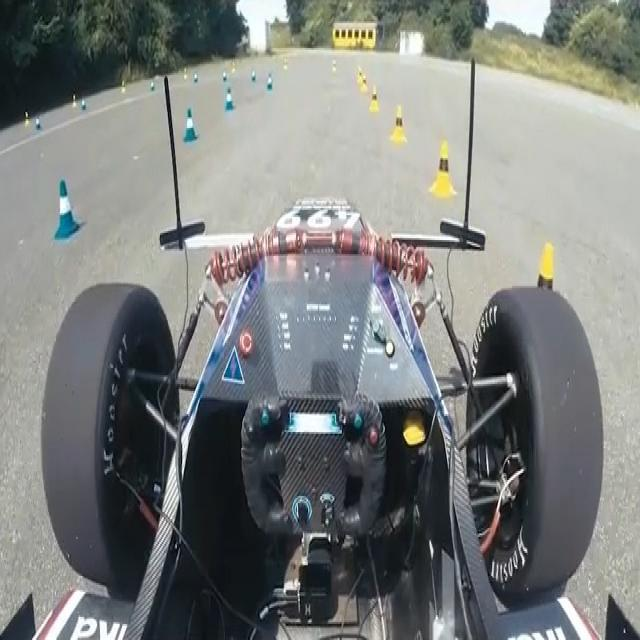blue_cone: (49, 173, 79, 240), (180, 106, 198, 145), (224, 86, 234, 112), (265, 70, 273, 94), (34, 113, 41, 133), (80, 94, 86, 112), (251, 68, 257, 84), (149, 79, 155, 94), (222, 69, 228, 83), (192, 71, 198, 85)
yellow_cone: (522, 238, 571, 393), (431, 136, 455, 198), (390, 102, 406, 143), (368, 85, 378, 114), (22, 108, 30, 129), (358, 66, 365, 88), (361, 74, 367, 95), (120, 79, 127, 96), (332, 57, 338, 75), (282, 54, 288, 70), (182, 66, 188, 81), (71, 94, 76, 108)
